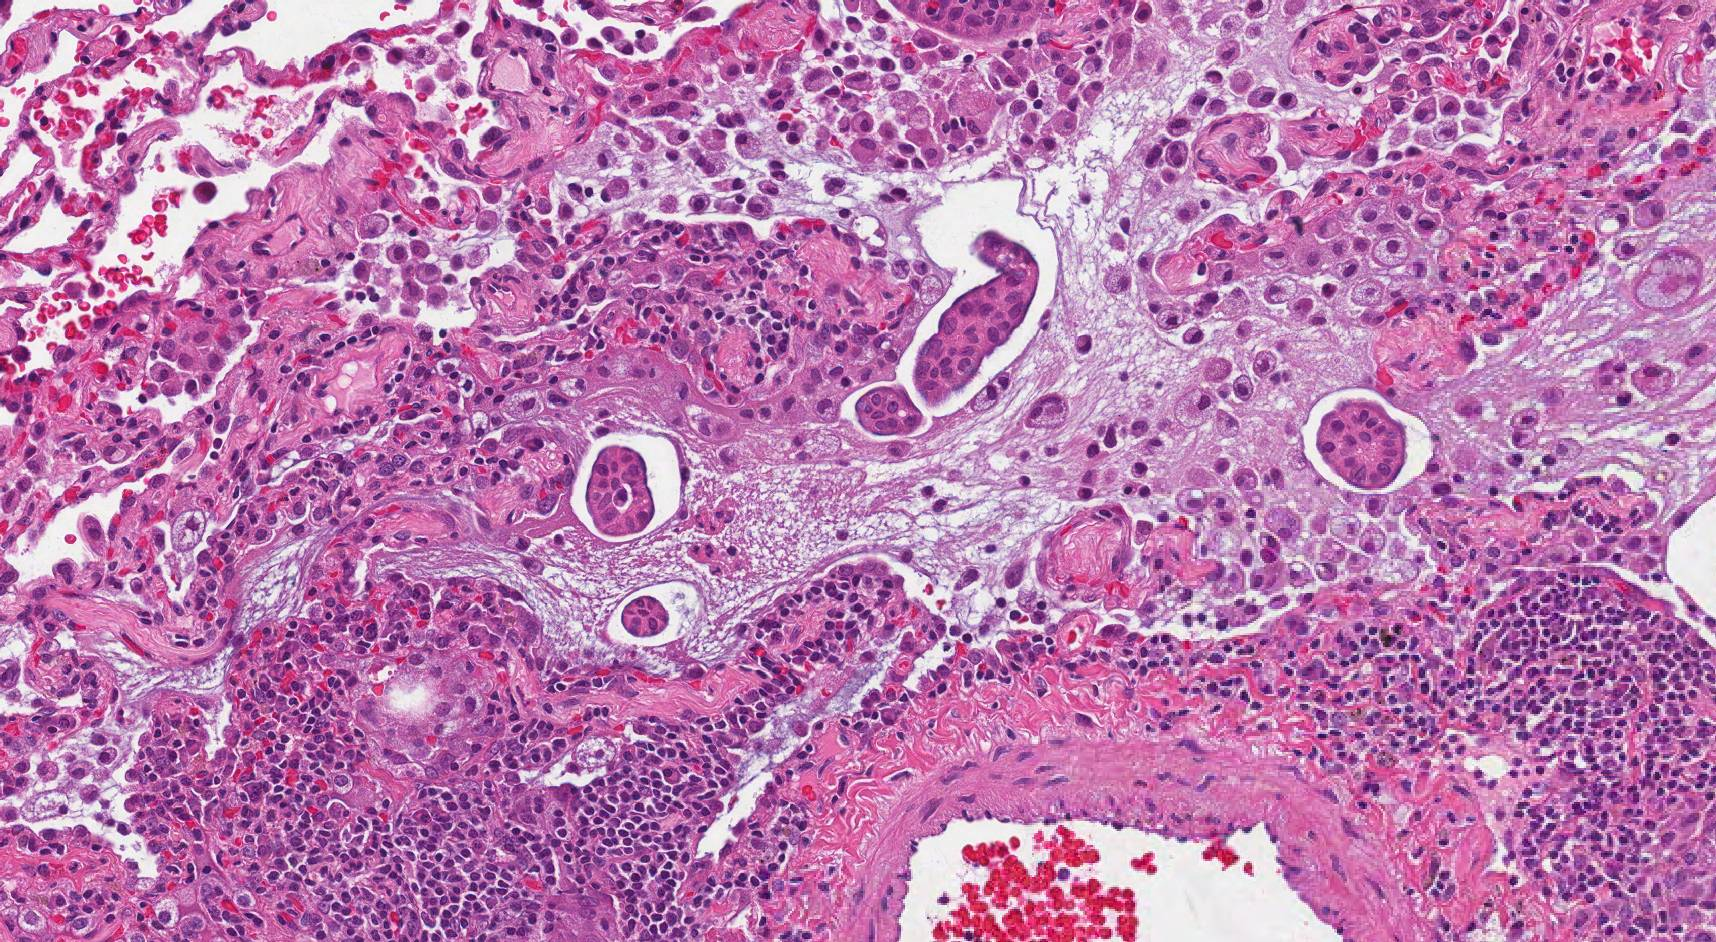stas: (913, 228, 1040, 403), (1316, 398, 1409, 488), (587, 444, 656, 538), (853, 384, 924, 435), (621, 595, 669, 638)
